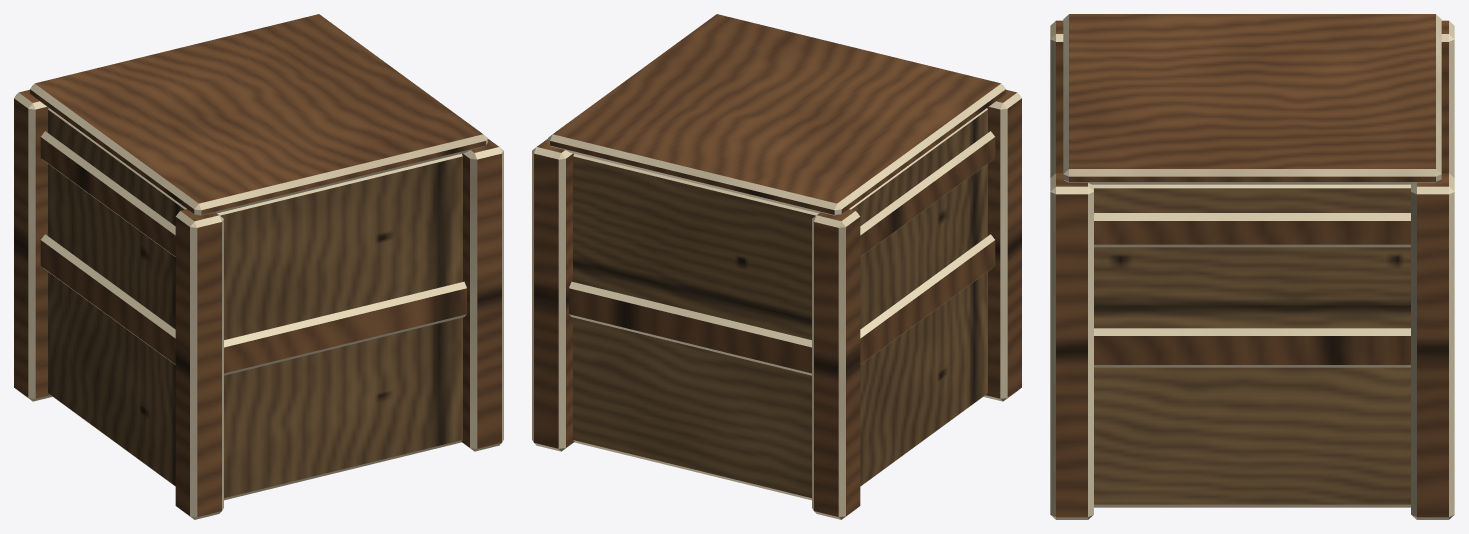
File: Env_Crate.fbx
3 views of the same model, side by side, from view 1: azimuth 30°, elevation 25°; view 2: azimuth 150°, elevation 25°; view 3: azimuth 270°, elevation 25° (orthographic). The views are drawn at different scales.
Visible parts, largest first — view 1: Env_Crate; view 2: Env_Crate; view 3: Env_Crate.
Part boxes in pixels (x1=…): Env_Crate: x1=14, y1=14, x2=503, y2=519; Env_Crate: x1=532, y1=14, x2=1021, y2=519; Env_Crate: x1=1050, y1=14, x2=1454, y2=519.
Bounding box in the file's own units: 69.5 × 69.5 × 65.5.
